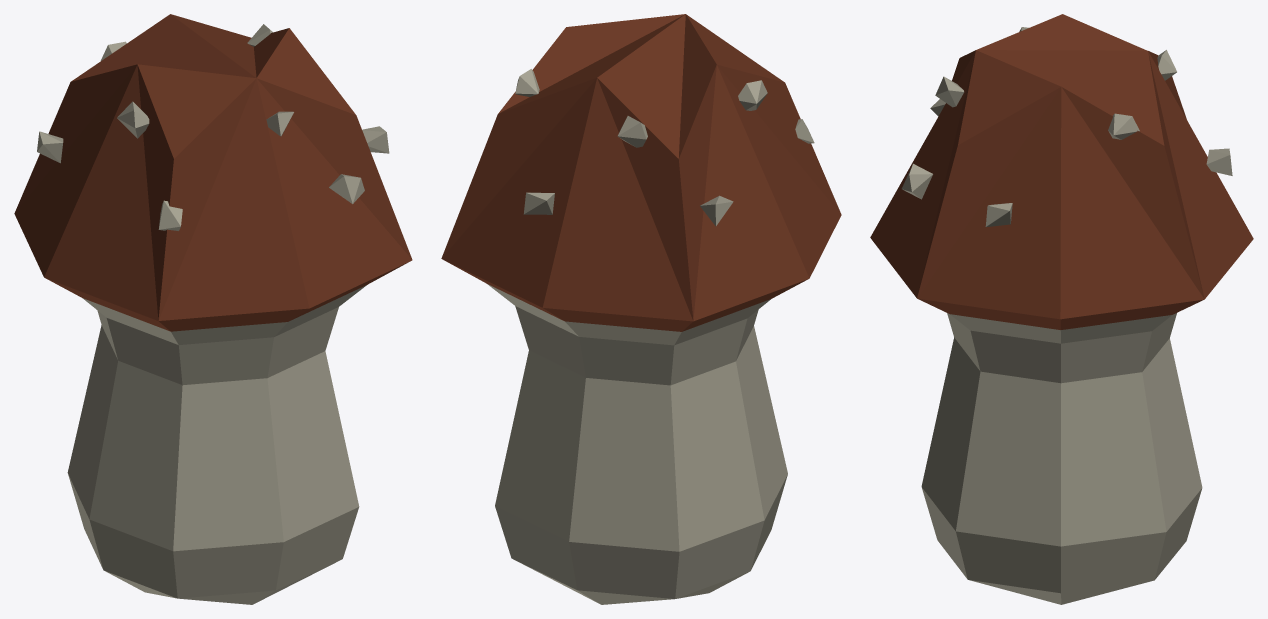
Rendered from plant_mushroom_small_1.glb.
The picture shows the model from 3 angles, left to right: view 1: azimuth 30°, elevation 25°; view 2: azimuth 150°, elevation 25°; view 3: azimuth 270°, elevation 25°; orthographic projection.
Parts seen in each view (by area): view 1: plant_mushroom_small_1; view 2: plant_mushroom_small_1; view 3: plant_mushroom_small_1.
Part boxes in pixels (x1,y1,x2,y2): plant_mushroom_small_1: (14, 14, 412, 604); plant_mushroom_small_1: (441, 14, 841, 604); plant_mushroom_small_1: (870, 14, 1253, 604).
Bounding box in the file's own units: 0.2214 × 0.339 × 0.2214.
